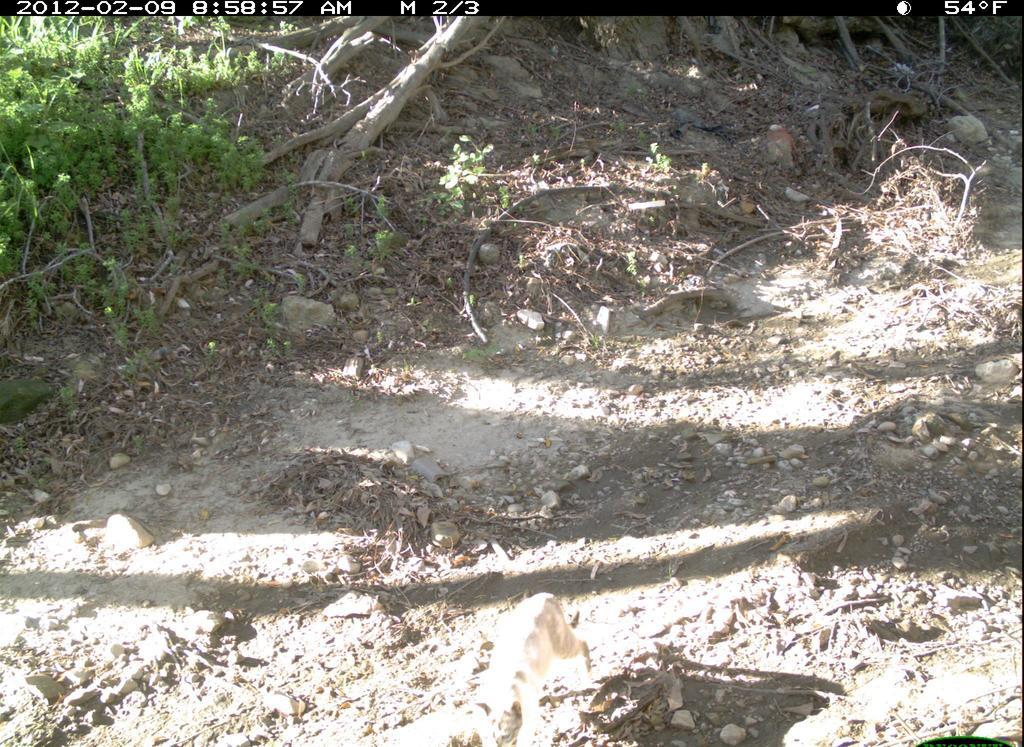cat: (441, 578, 614, 733)
